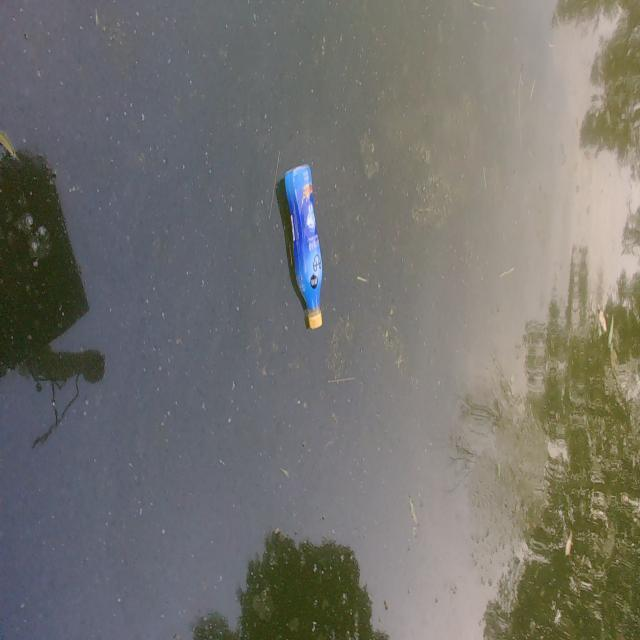bottle: (256, 125, 344, 352)
